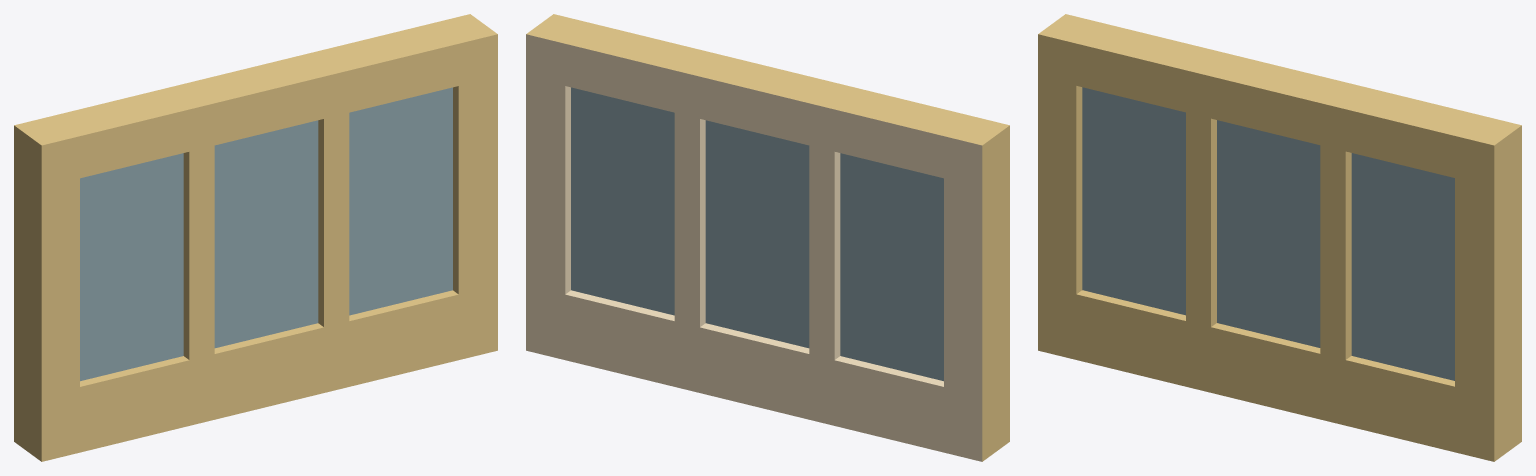
Rendered from Hall_Mur01.fbx.
The picture shows the model from 3 angles, left to right: view 1: azimuth 30°, elevation 25°; view 2: azimuth 150°, elevation 25°; view 3: azimuth 330°, elevation 25°; orthographic projection.
Parts seen in each view (by area): view 1: Mur01; view 2: Mur01; view 3: Mur01.
Part boxes in pixels (box(x1,y1,x2,y2)): Mur01: box(14, 14, 497, 461); Mur01: box(526, 14, 1009, 461); Mur01: box(1038, 14, 1521, 461).
Bounding box in the file's own units: 9.78 × 6.49 × 1.03.
